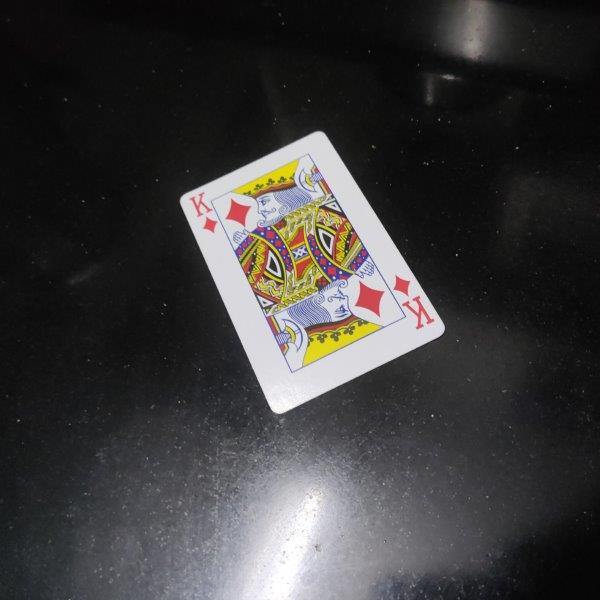King of Diamonds: (177, 130, 446, 416)
